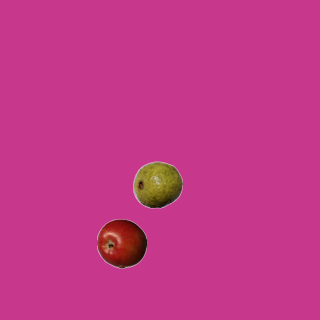Apple Braeburn: (96, 218, 146, 268)
Guava: (132, 159, 182, 209)
